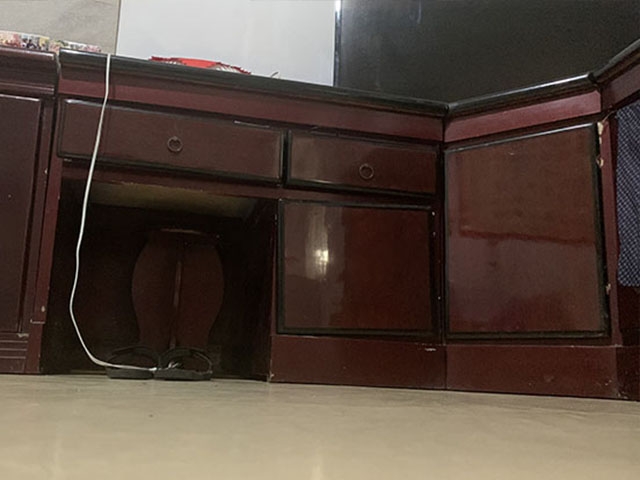cabinet: (1, 50, 432, 389), (445, 41, 640, 401)
slippers: (152, 341, 211, 380), (104, 345, 153, 378)
wire: (57, 53, 148, 371)
